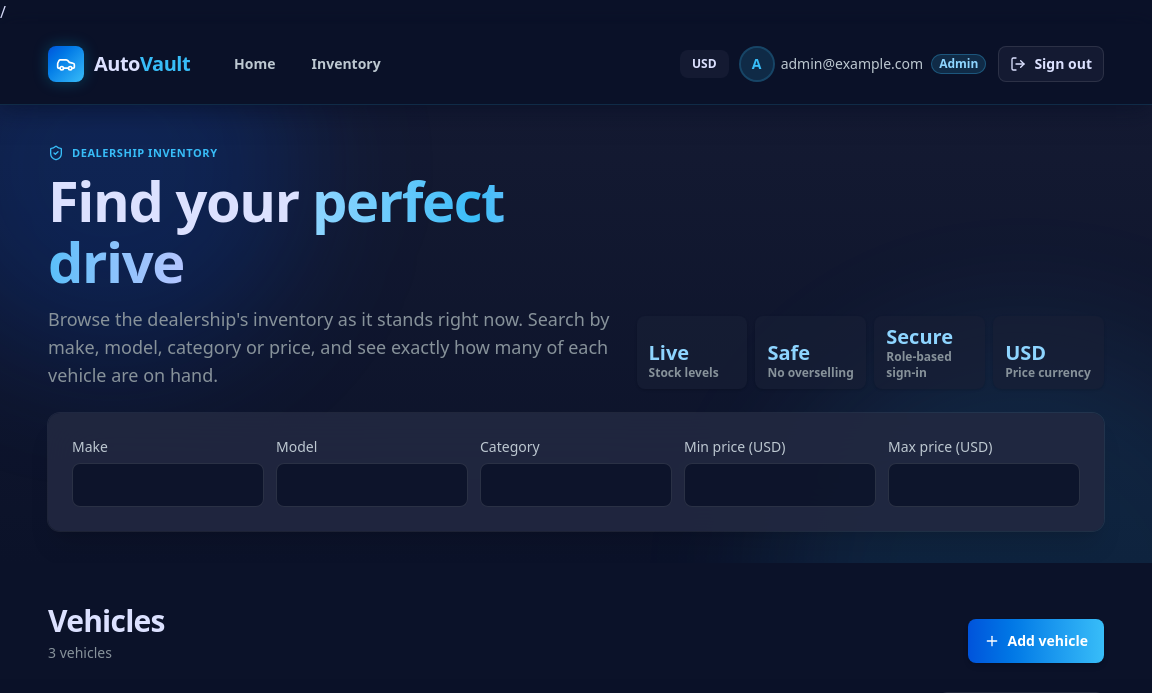
Test case: adding a vehicle › checks the form first › explains a price that is not an amount
Click the button "Add vehicle" at (1036, 641), box [968,619,1104,663]
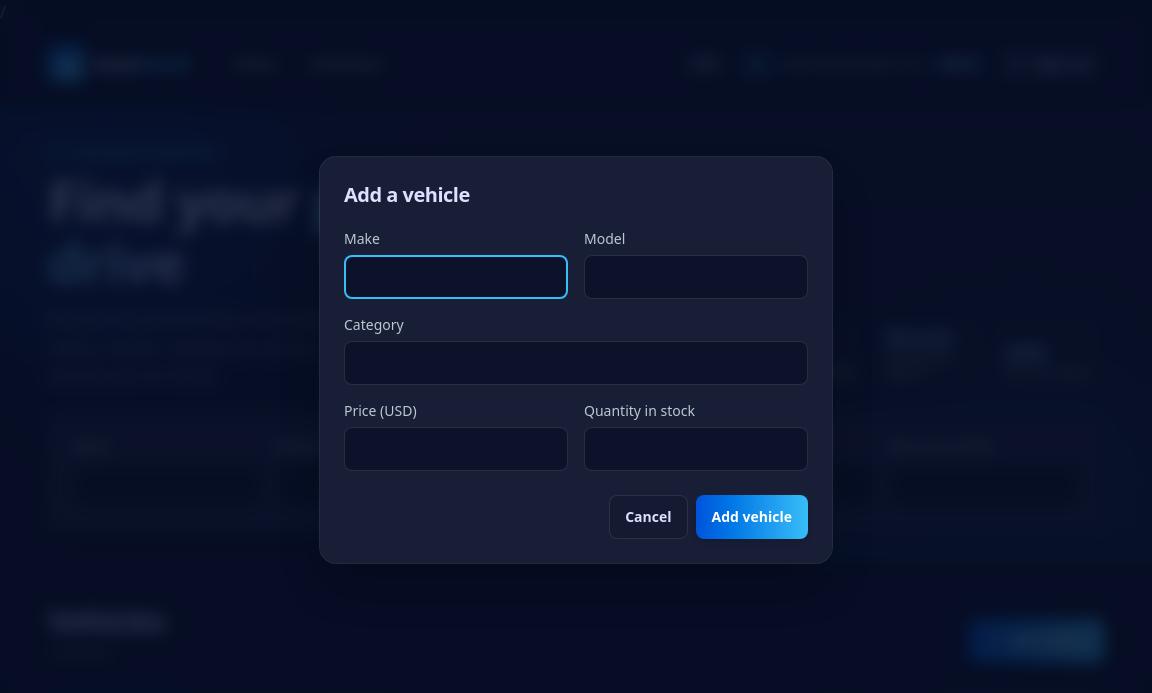
Type "Toyota" into the field labelled "Make" at (456, 277), box [344,255,568,299]
Type "Camry" into the field labelled "Model" at (696, 277), box [584,255,808,299]
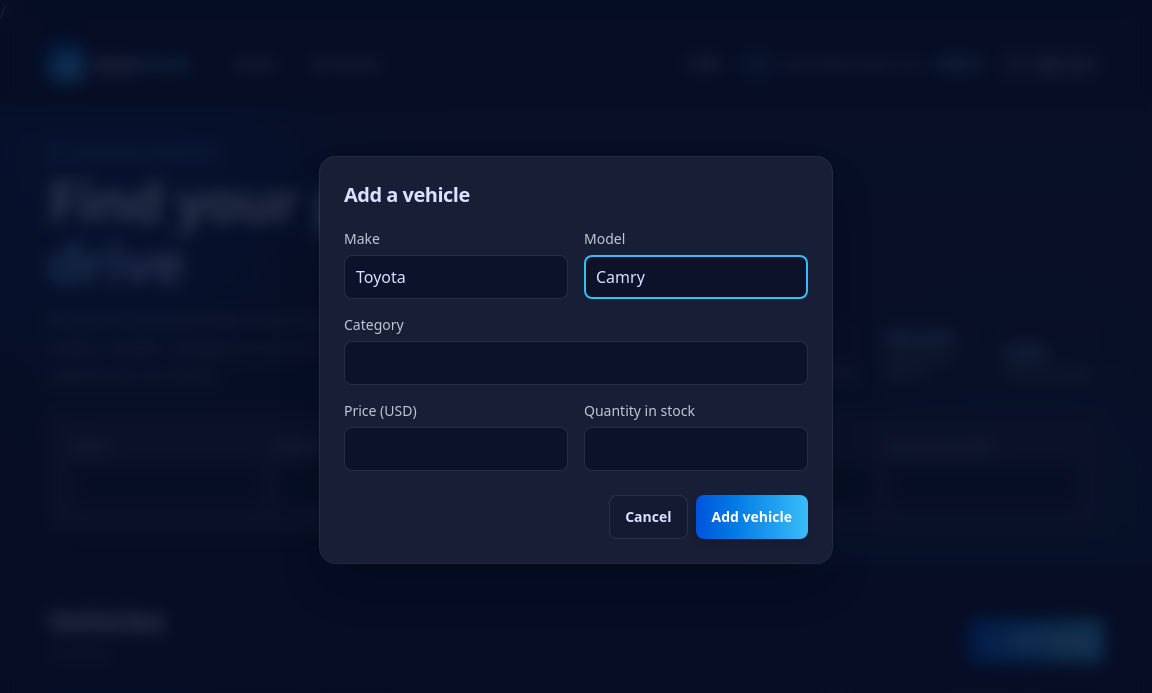
Type "Sedan" into the field labelled "Category" at (576, 363), box [344,341,808,385]
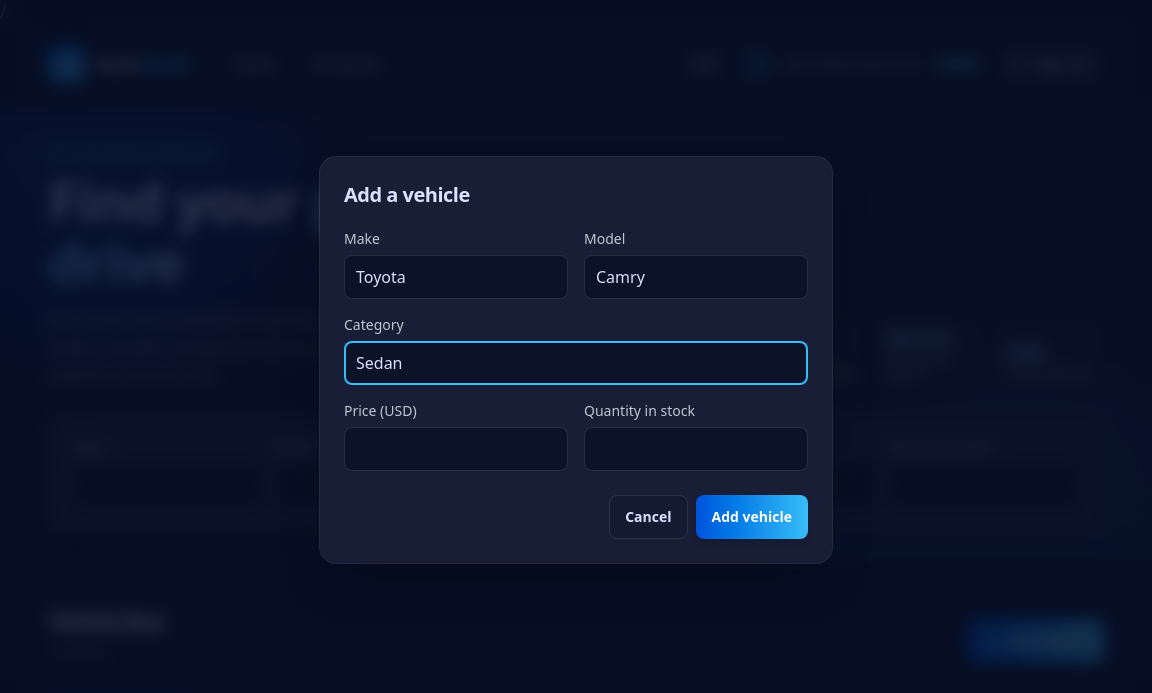
Type "abc" into the field labelled "Price (USD)" at (456, 449), box [344,427,568,471]
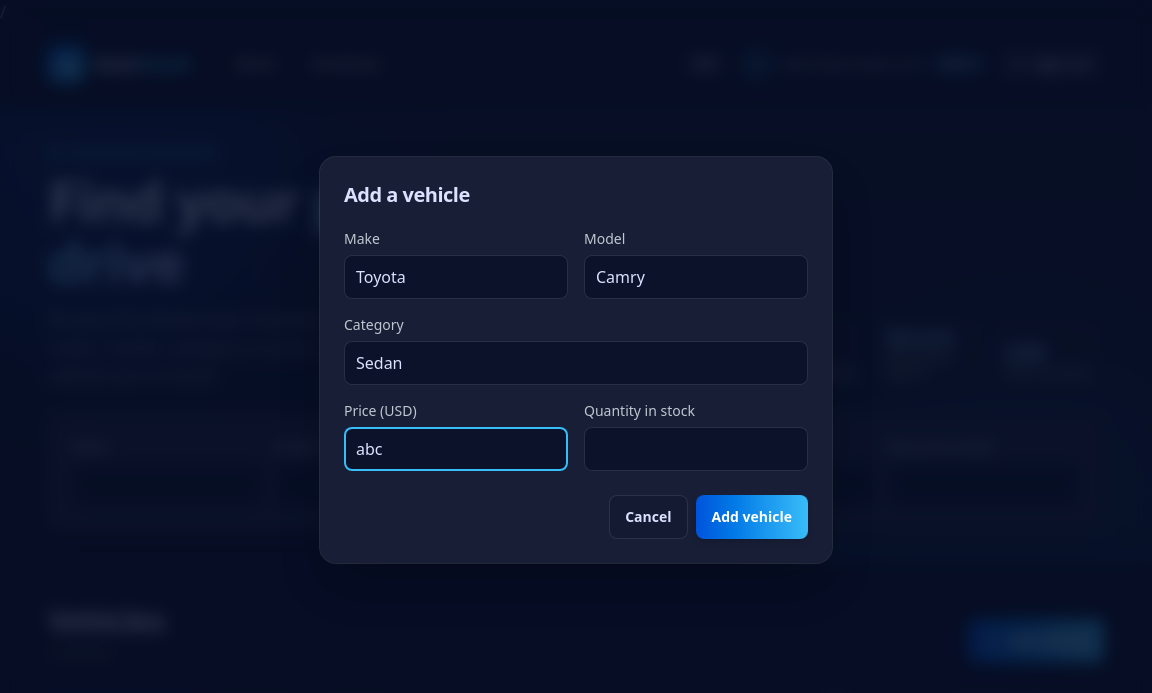
Type "5" into the field labelled "Quantity in stock" at (696, 449), box [584,427,808,471]
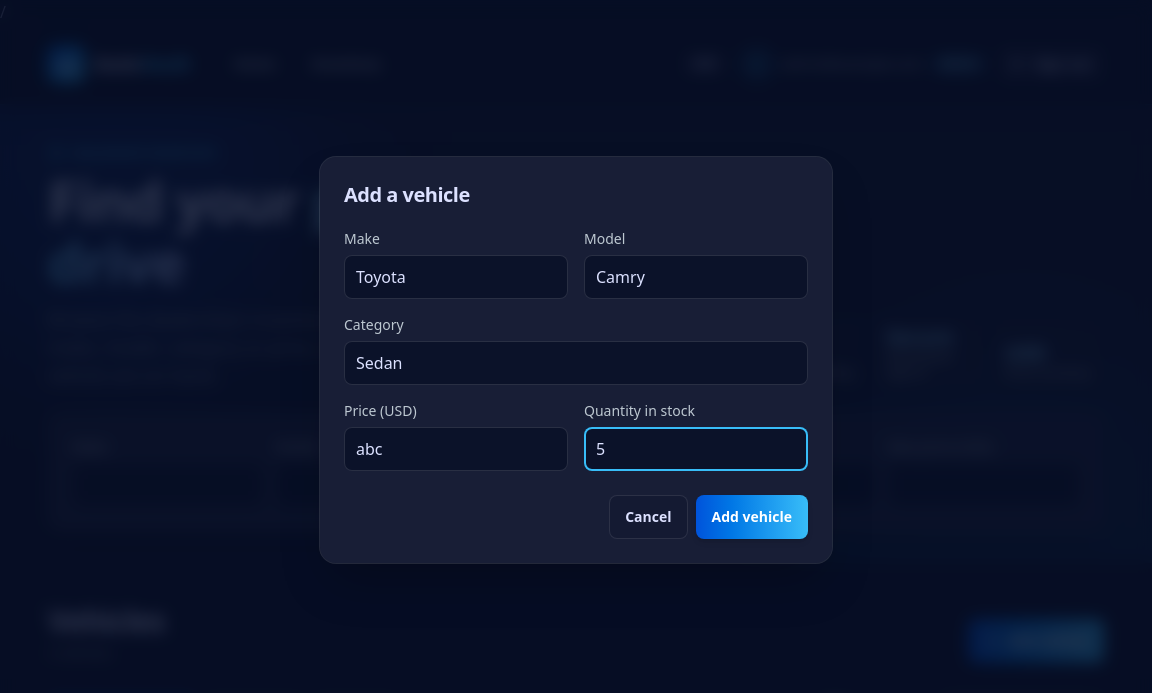
Click the button "Add vehicle" at (752, 517), box [696,495,808,539]
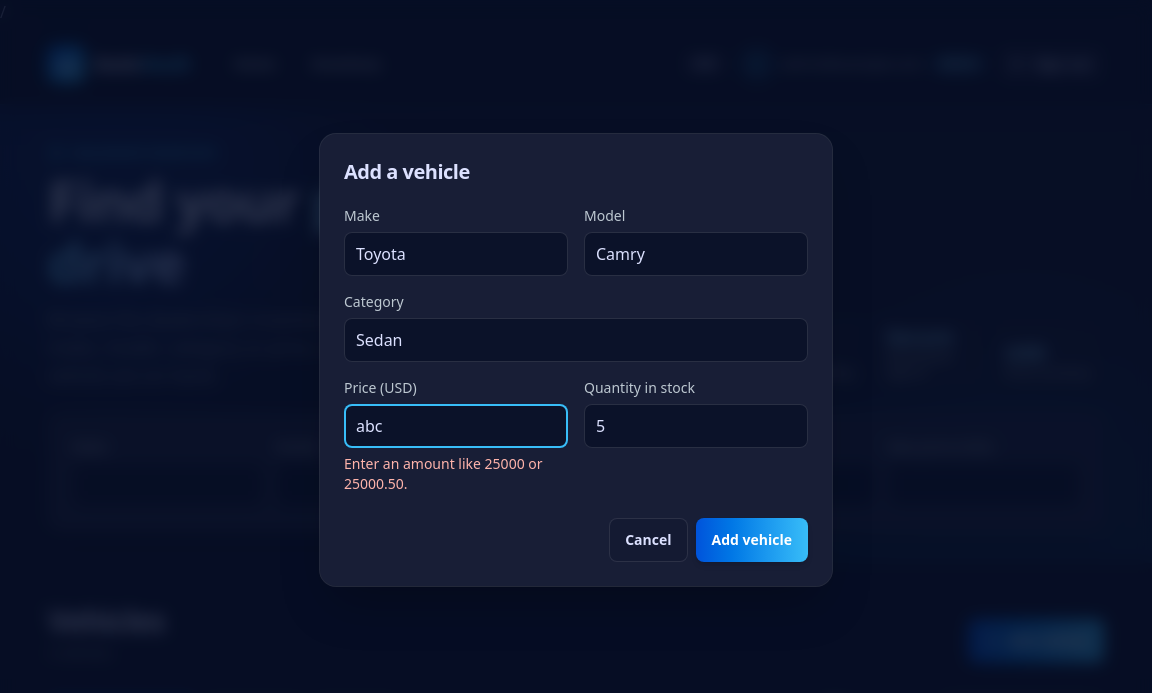
Result: the text "Enter an amount like 25000 or 25000.50." is shown at [344,454,568,494]
